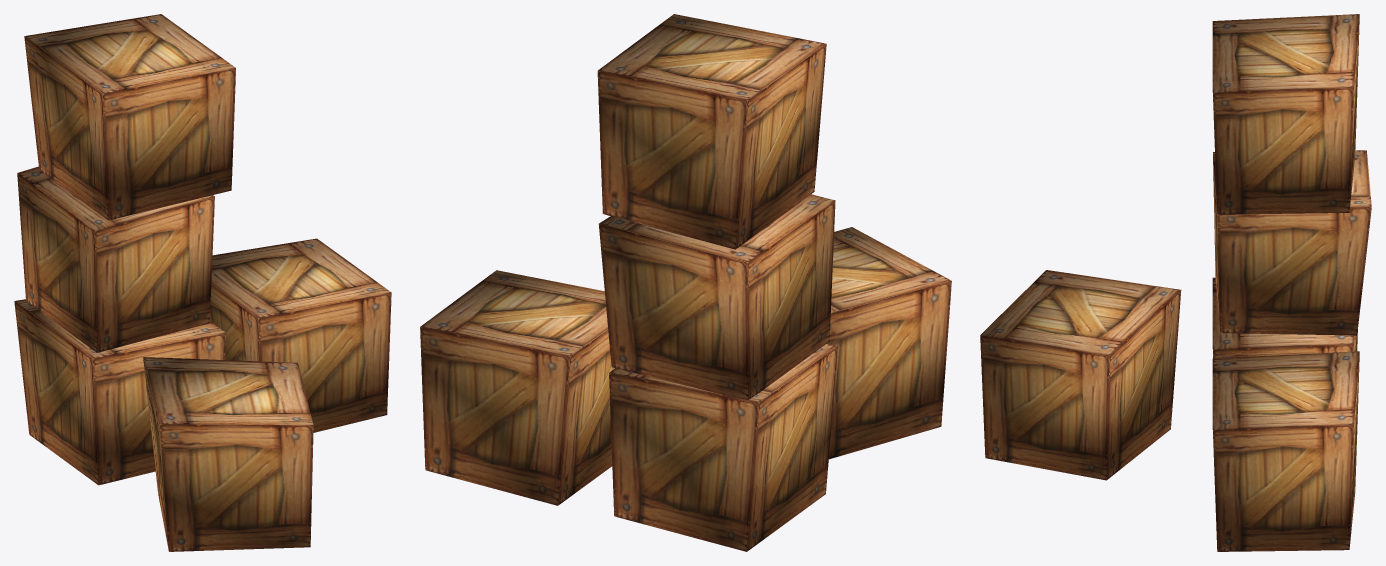
File: obj_dudkcoprbox01_01.glb
3 renders of one model, left to right at view 1: azimuth 30°, elevation 25°; view 2: azimuth 150°, elevation 25°; view 3: azimuth 270°, elevation 25°, orthographic. The views are drawn at different scales.
Visible parts, largest first — view 1: part_0; view 2: part_0; view 3: part_0.
Boxes of the visible parts, left/top/right/bottom form: part_0: left=14, top=14, right=391, bottom=551; part_0: left=420, top=14, right=951, bottom=551; part_0: left=980, top=14, right=1371, bottom=551.
Size of the model in its own units: 1.86 by 2.24 by 2.
Materials: 1 (1 with a texture image).
